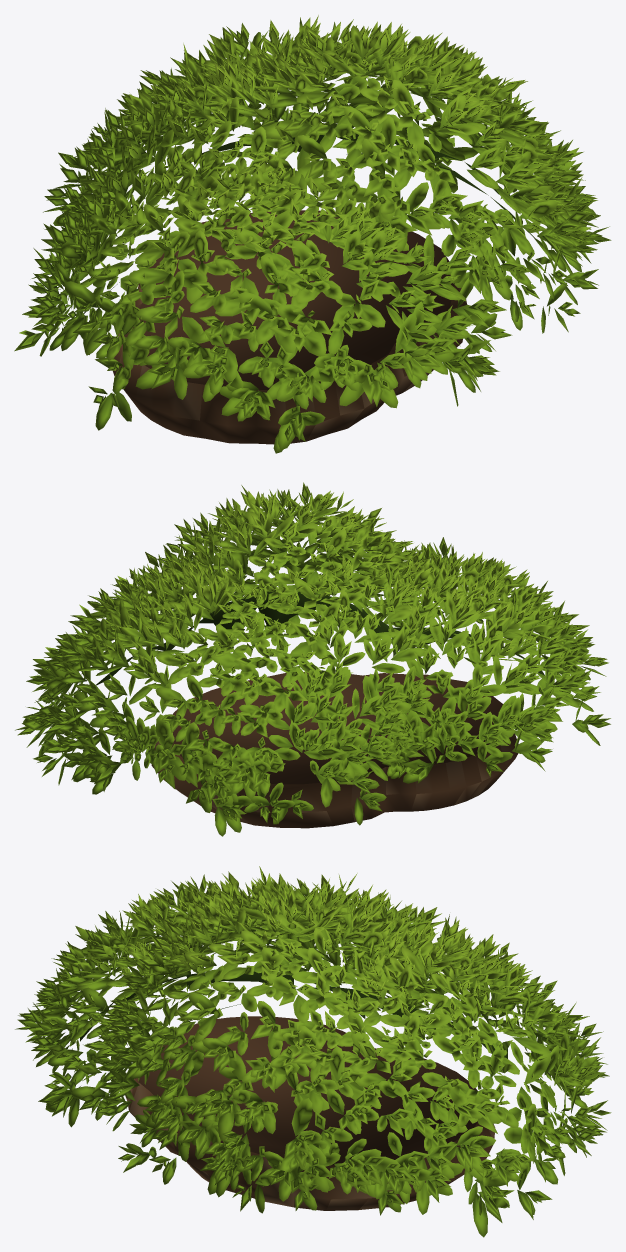
File: moss-tuft-4.glb
3 renders of one model, top to bottom at view 1: azimuth 30°, elevation 25°; view 2: azimuth 150°, elevation 25°; view 3: azimuth 270°, elevation 25°, orthographic. The views are drawn at different scales.
Parts seen in each view (by area): view 1: lod0; view 2: lod0; view 3: lod0.
Boxes of the visible parts, x1,y1,x2,y2 form: lod0: (14,15,611,453); lod0: (15,482,610,836); lod0: (15,866,611,1237).
Size of what is drawn, in the model's own units: 1 by 0.5229 by 0.9911.
